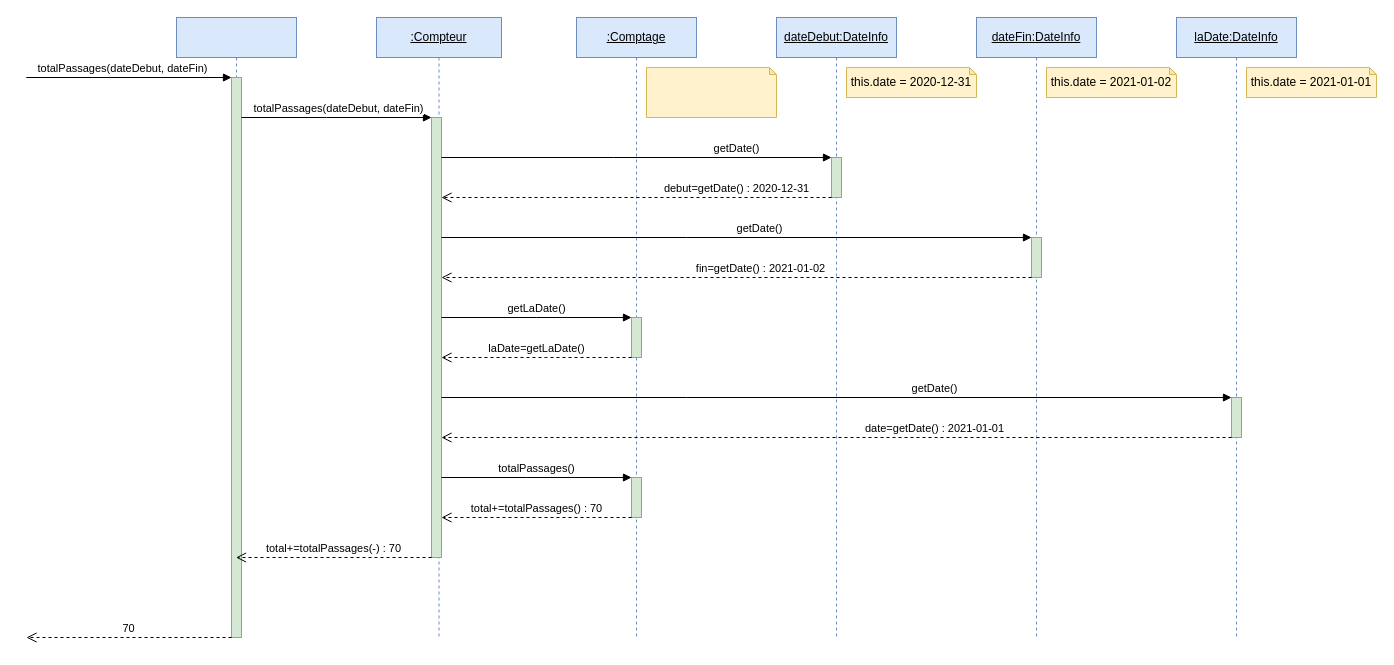
The diagram is 1394 pixels wide and 665 high, and some of its shapes have lost their labels. Here are the shapes that lost their labels. From the top down, the box of each, then its label:
(646, 66, 776, 118): this.passages = {1,1,1,1,1,2,2,2,2,2,3,3, 3,3,3,4,4,4,4,4,5,5,5,5}
(176, 16, 296, 638): :Quartier
